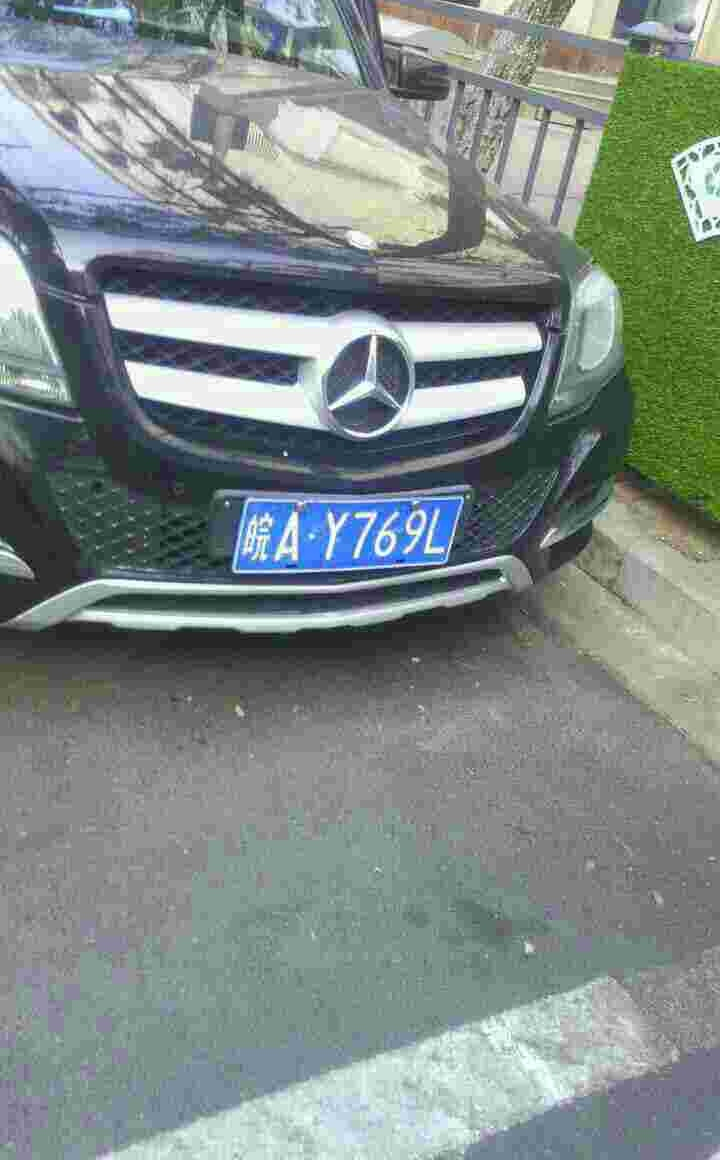car: (235, 491, 485, 572)
